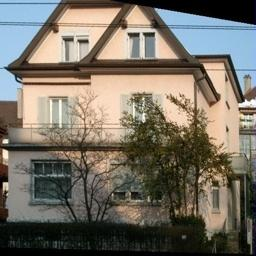building: (9, 0, 202, 237)
